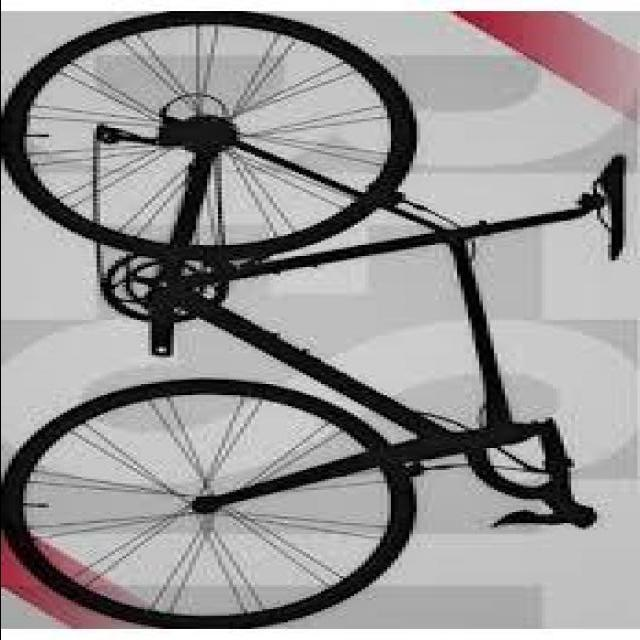bicycle: (27, 16, 640, 614)
